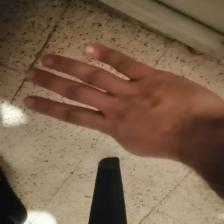four: (11, 36, 224, 166)
